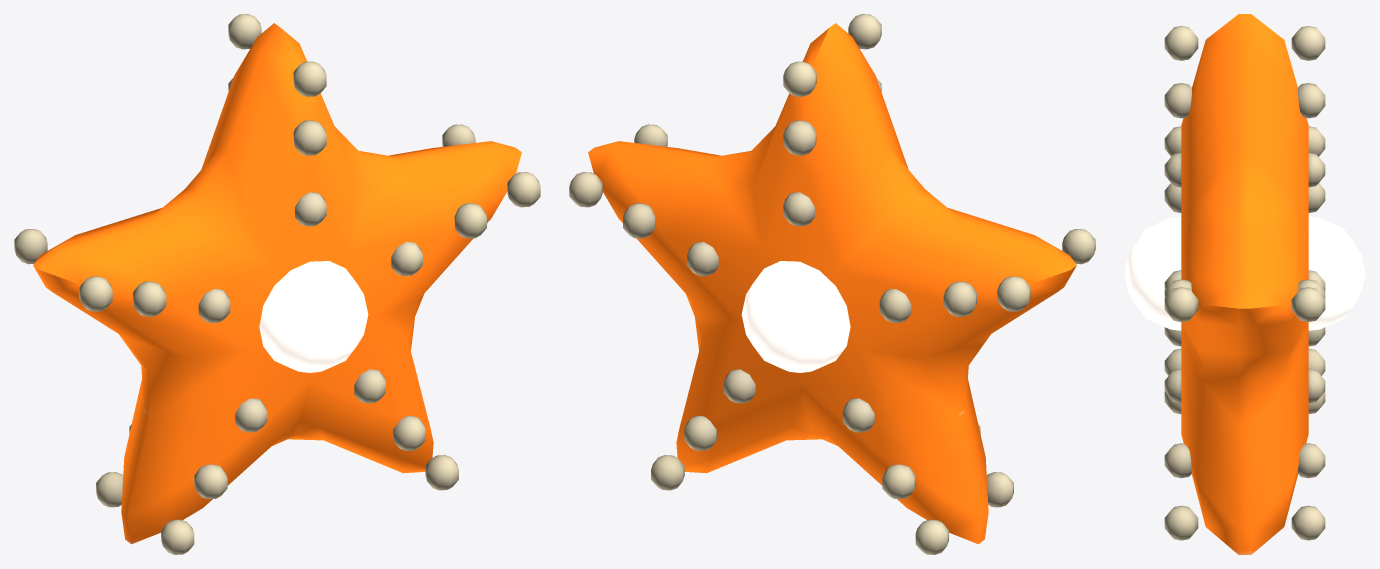
File: tf_coin.glb
The picture shows the model from 3 angles, left to right: view 1: azimuth 30°, elevation 25°; view 2: azimuth 150°, elevation 25°; view 3: azimuth 270°, elevation 25°; orthographic projection. The views are drawn at different scales.
Parts seen in each view (by area): view 1: tf_coin; view 2: tf_coin; view 3: tf_coin.
Boxes of the visible parts, x1,y1,x2,y2 form: tf_coin: (14, 14, 540, 554); tf_coin: (569, 14, 1095, 554); tf_coin: (1124, 14, 1365, 554).
Bounding box in the file's own units: 0.858 × 0.816 × 0.38.
Materials: 3 (3 with a texture image).
